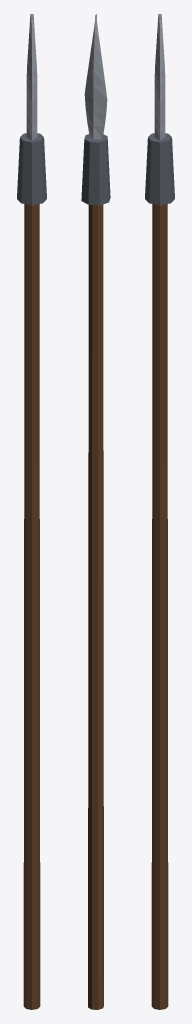
File: g-javelin.glb
3 renders of one model, left to right at view 1: azimuth 90°, elevation 25°; view 2: azimuth 150°, elevation 25°; view 3: azimuth 270°, elevation 25°, orthographic.
Visible parts, largest first — view 1: g-javelin; view 2: g-javelin; view 3: g-javelin.
Boxes of the visible parts, x1=… form: g-javelin: x1=17, y1=14, x2=46, y2=1009; g-javelin: x1=81, y1=14, x2=110, y2=1009; g-javelin: x1=145, y1=14, x2=174, y2=1009.
Size of the model in its own units: 0.04 by 1.45 by 0.04.
